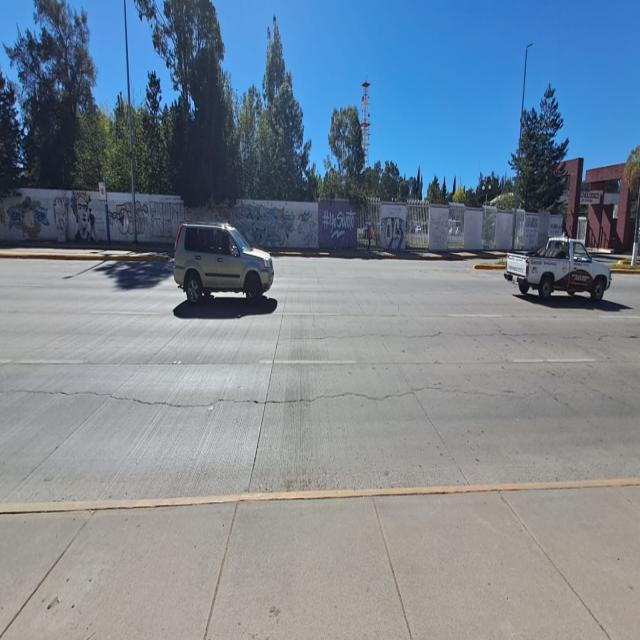Auto: (171, 215, 276, 309), (503, 226, 615, 310)
